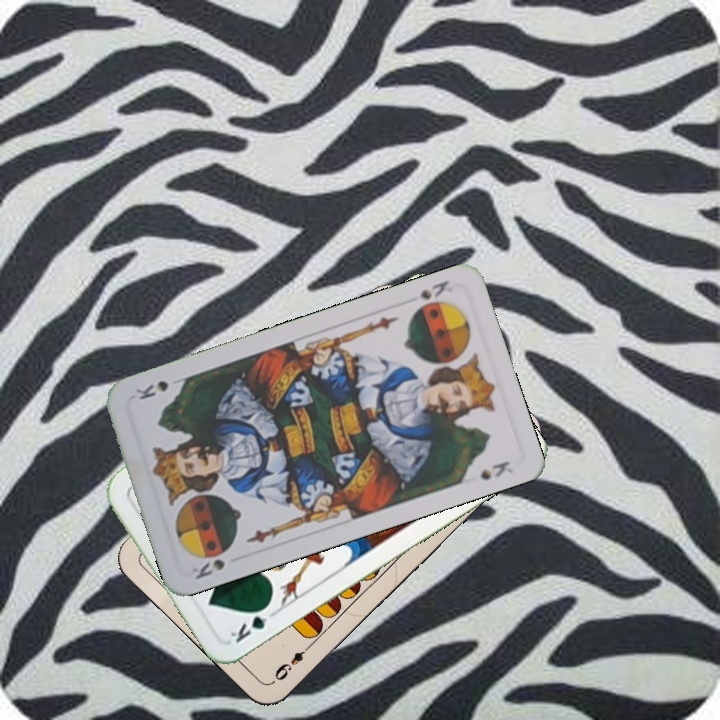E9: (269, 639, 316, 685)
GK: (226, 600, 279, 645)
SK: (408, 276, 459, 315), (191, 544, 233, 582)
